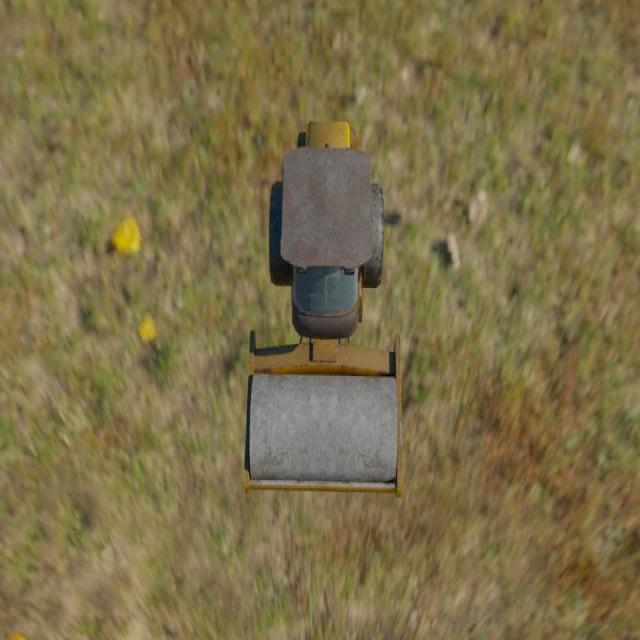Roller: (243, 120, 402, 497)
